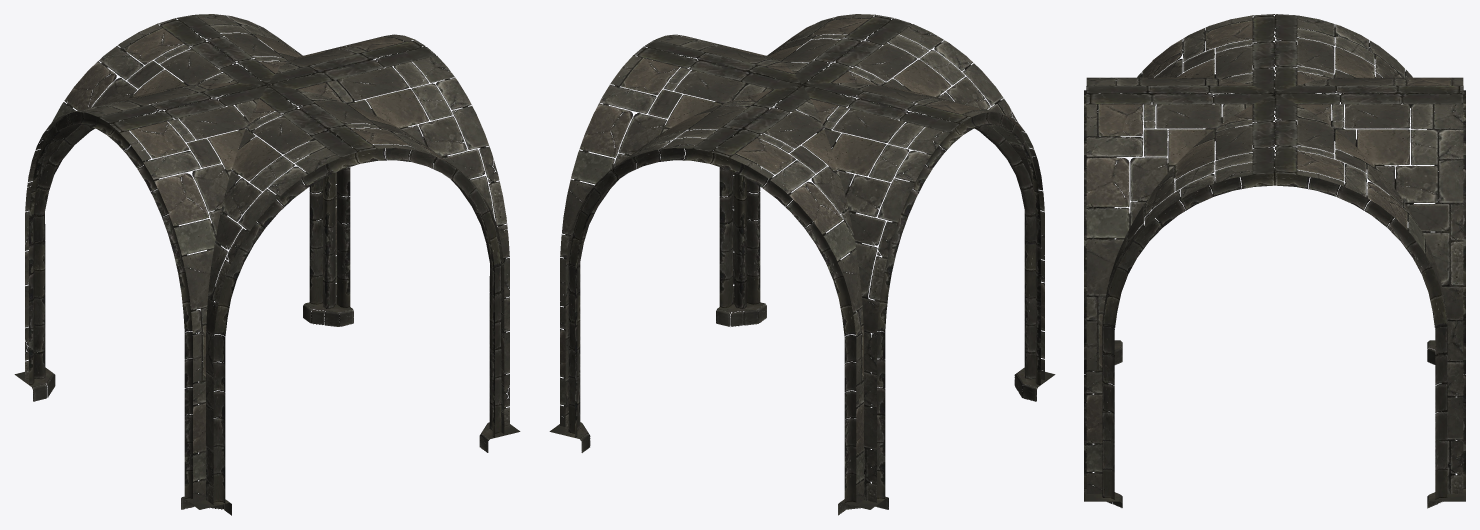
The picture shows the model from 3 angles, left to right: view 1: azimuth 30°, elevation 25°; view 2: azimuth 150°, elevation 25°; view 3: azimuth 270°, elevation 25°; orthographic projection. The views are drawn at different scales.
Visible parts, largest first — view 1: SM_Dowdun_Vaulted_Ceiling_12x12_02_LOD0; view 2: SM_Dowdun_Vaulted_Ceiling_12x12_02_LOD0; view 3: SM_Dowdun_Vaulted_Ceiling_12x12_02_LOD0.
Boxes of the visible parts, <box> form: SM_Dowdun_Vaulted_Ceiling_12x12_02_LOD0: <box>14,14,520,515</box>; SM_Dowdun_Vaulted_Ceiling_12x12_02_LOD0: <box>549,14,1055,515</box>; SM_Dowdun_Vaulted_Ceiling_12x12_02_LOD0: <box>1084,14,1465,508</box>.
Size of the model in its own units: 12.15 by 12 by 12.15.
Materials: 2 (2 with a texture image).
